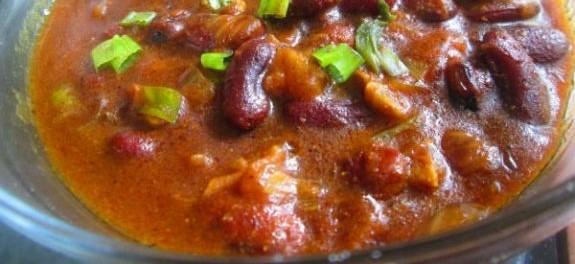RajmaCurry: (31, 0, 575, 264)
